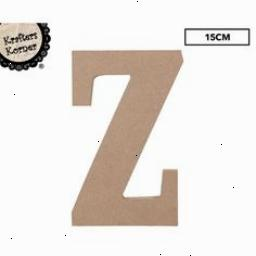z: (66, 49, 188, 231)
